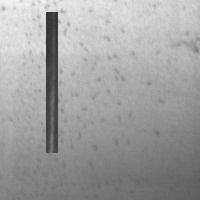pitted_surface: (16, 1, 134, 158)
scratches: (46, 12, 58, 153)
